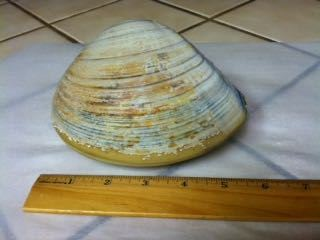cockle: (52, 20, 249, 168)
